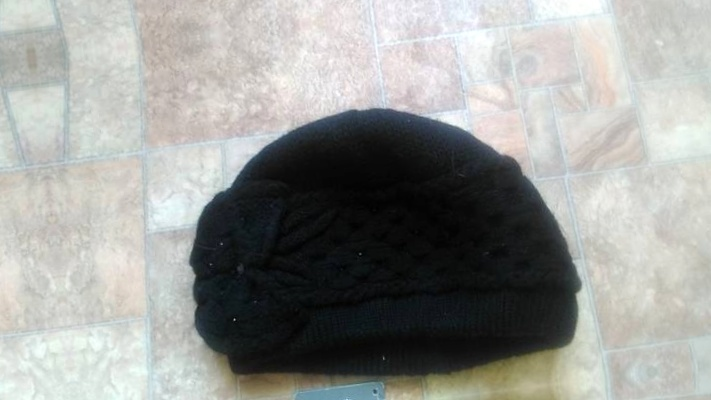Hat: (166, 60, 621, 400), (208, 387, 662, 400)
